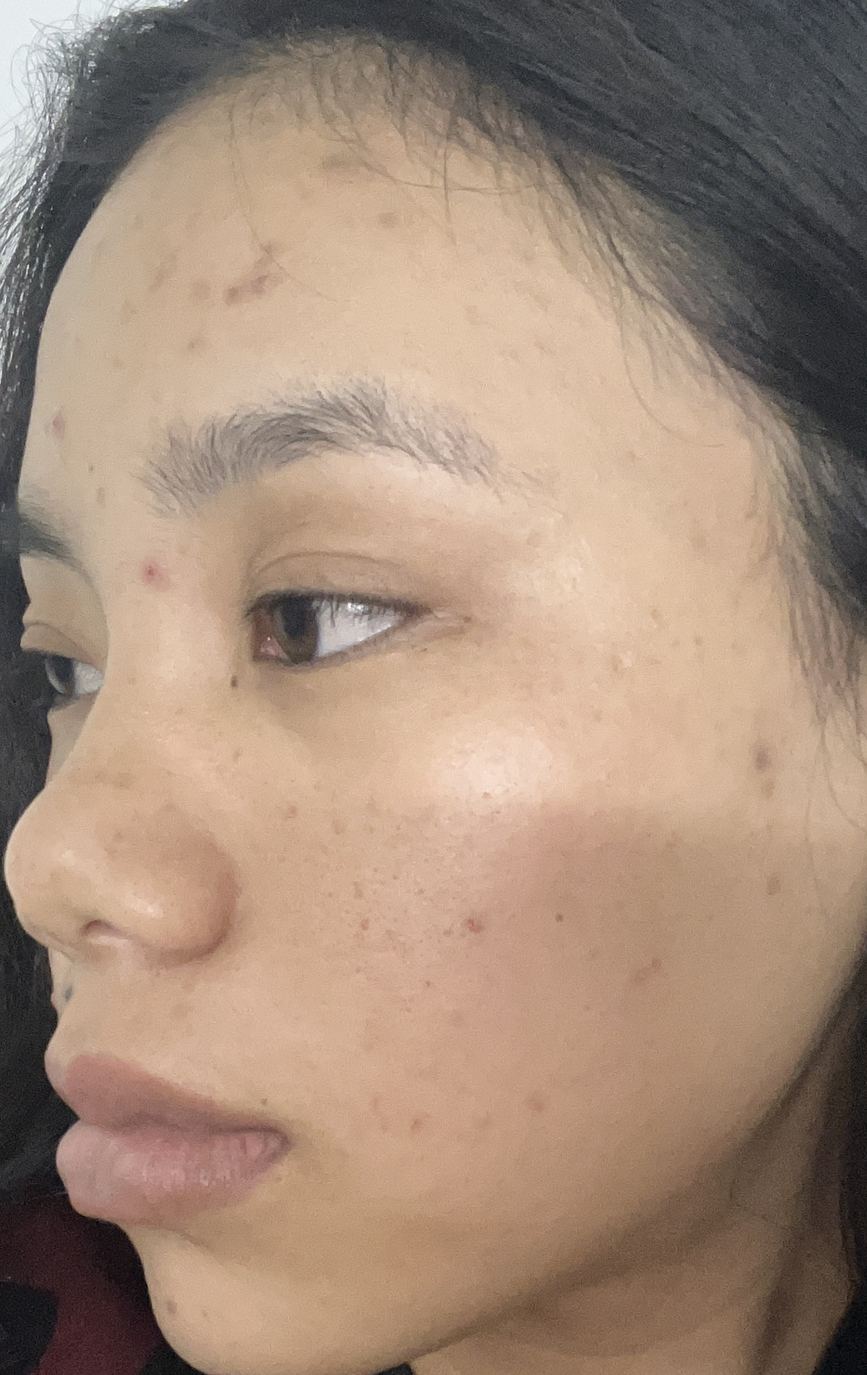papule: (317, 143, 432, 218), (215, 268, 301, 327), (444, 903, 510, 978), (741, 724, 795, 805), (128, 547, 199, 599), (33, 402, 97, 447), (516, 1073, 562, 1123)
